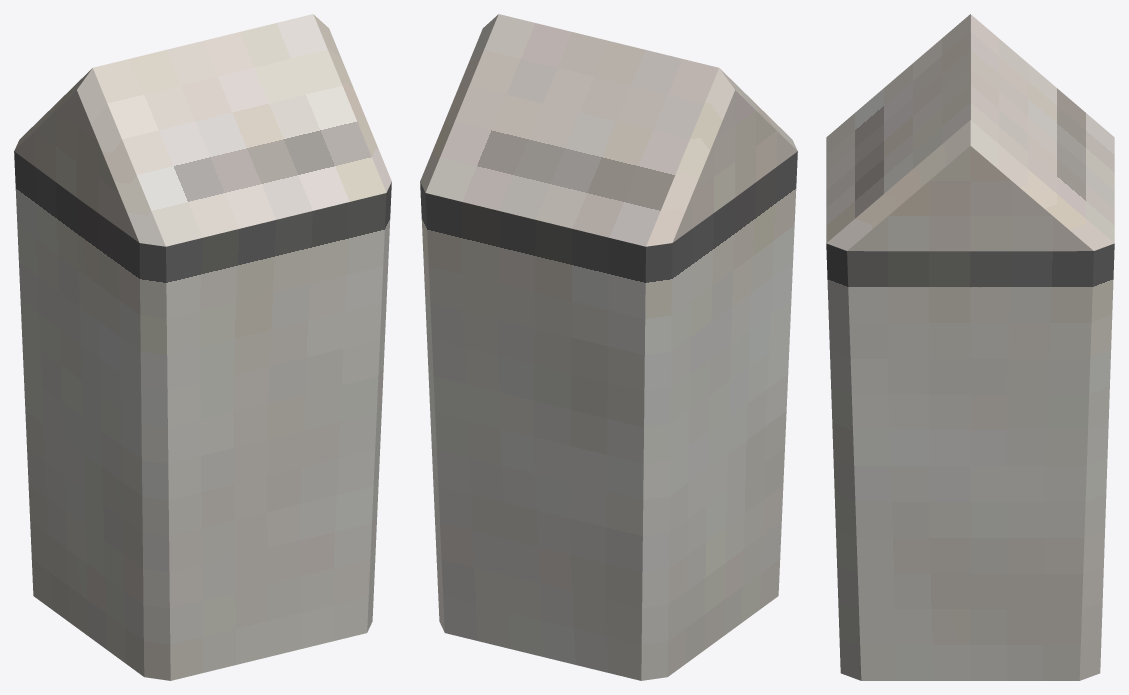
File: TrashCan03.glb
3 renders of one model, left to right at view 1: azimuth 30°, elevation 25°; view 2: azimuth 150°, elevation 25°; view 3: azimuth 270°, elevation 25°, orthographic.
Parts seen in each view (by area): view 1: TrashCan03; view 2: TrashCan03; view 3: TrashCan03.
Boxes of the visible parts, <box> form: TrashCan03: <box>14,14,391,680</box>; TrashCan03: <box>420,14,797,680</box>; TrashCan03: <box>826,14,1114,680</box>.
Size of the model in its own units: 0.3939 by 0.847 by 0.396.
1 material, 1 textured.
